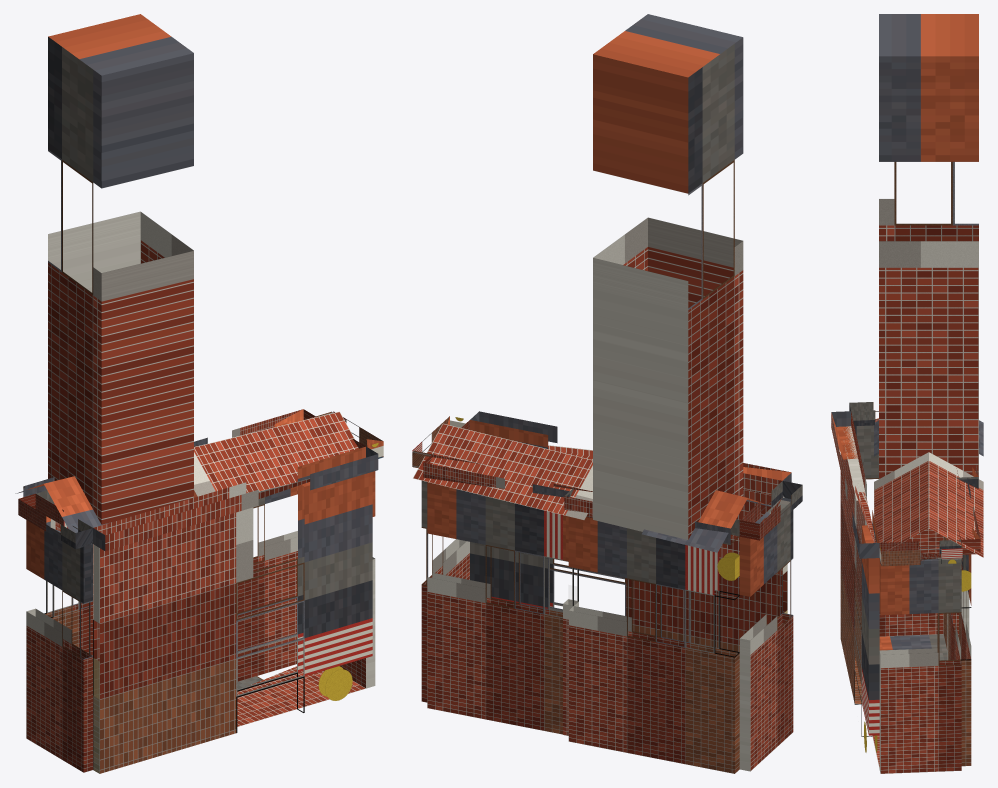
3 views of the same model, side by side, from view 1: azimuth 30°, elevation 25°; view 2: azimuth 150°, elevation 25°; view 3: azimuth 270°, elevation 25° (orthographic). The views are drawn at different scales.
Visible parts, largest first — view 1: 1106967129__chimney_0_xb, 1106967129__wall_1_xb, 1106967129__wall_2_xb, 1106967129_roof_-1_xb, 1106967129__wall_5_xb, 1106967129__cornice_1, 1106967129__base, 1106967129__cornice_2, 1106967129__wall_3_xb, 1106967129__wall_0_xb, 1106967129__cornice_5; view 2: 1106967129__chimney_0_xb, 1106967129__wall_3_xb, 1106967129__wall_5_xb, 1106967129__wall_1_xb, 1106967129_roof_1_xb, 1106967129__wall_2_xb, 1106967129__cornice_1, 1106967129__wall_0_xb, 1106967129__cornice_2, 1106967129__cornice_5, 1106967129__wall_4_xb, 1106967129__cornice_3; view 3: 1106967129__chimney_0_xb, 1106967129__wall_0_xb, 1106967129__wall_1_xb, 1106967129_roof_-1_xb, 1106967129_roof_1_xb, 1106967129__wall_2_xb, 1106967129__wall_5_xb, 1106967129__cornice_1, 1106967129__cornice_0, 1106967129__base, 1106967129__cornice_2, 1106967129__wall_3_xb (+1 smaller).
Part boxes in pixels (box(x1,y1,x2,y2)): 1106967129__chimney_0_xb: box(48, 14, 193, 524); 1106967129__wall_1_xb: box(93, 472, 372, 773); 1106967129__wall_2_xb: box(26, 516, 92, 772); 1106967129_roof_-1_xb: box(44, 411, 358, 532); 1106967129__wall_5_xb: box(197, 486, 297, 681); 1106967129__cornice_1: box(93, 446, 378, 551); 1106967129__base: box(237, 666, 365, 726); 1106967129__cornice_2: box(18, 493, 92, 549); 1106967129__wall_3_xb: box(44, 504, 92, 655); 1106967129__wall_0_xb: box(340, 471, 375, 688); 1106967129__cornice_5: box(194, 409, 315, 446); 1106967129__chimney_0_xb: box(593, 14, 743, 539); 1106967129__wall_3_xb: box(568, 516, 739, 773); 1106967129__wall_5_xb: box(427, 482, 578, 734); 1106967129__wall_1_xb: box(470, 490, 787, 651); 1106967129_roof_1_xb: box(413, 423, 747, 552); 1106967129__wall_2_xb: box(739, 497, 793, 771); 1106967129__cornice_1: box(470, 411, 791, 496); 1106967129__wall_0_xb: box(421, 480, 469, 702); 1106967129__cornice_2: box(739, 481, 802, 540); 1106967129__cornice_5: box(423, 454, 574, 497); 1106967129__wall_4_xb: box(563, 515, 578, 735); 1106967129__cornice_3: box(564, 487, 739, 544); 1106967129__chimney_0_xb: box(879, 14, 978, 478); 1106967129__wall_0_xb: box(879, 557, 961, 773); 1106967129__wall_1_xb: box(840, 426, 879, 752); 1106967129_roof_-1_xb: box(874, 420, 928, 550); 1106967129_roof_1_xb: box(929, 420, 983, 557); 1106967129__wall_2_xb: box(854, 425, 943, 636); 1106967129__wall_5_xb: box(948, 539, 971, 766); 1106967129__cornice_1: box(831, 411, 879, 558); 1106967129__cornice_0: box(879, 539, 962, 566); 1106967129__base: box(872, 634, 947, 768); 1106967129__cornice_2: box(849, 402, 878, 426); 1106967129__wall_3_xb: box(943, 536, 969, 649).
Size of the model in its own units: 0.5398 by 1.05 by 0.2288.
Materials: 1 (1 with a texture image).
